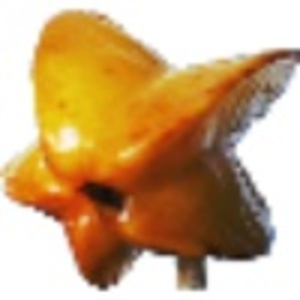carambola: (1, 8, 300, 293)
